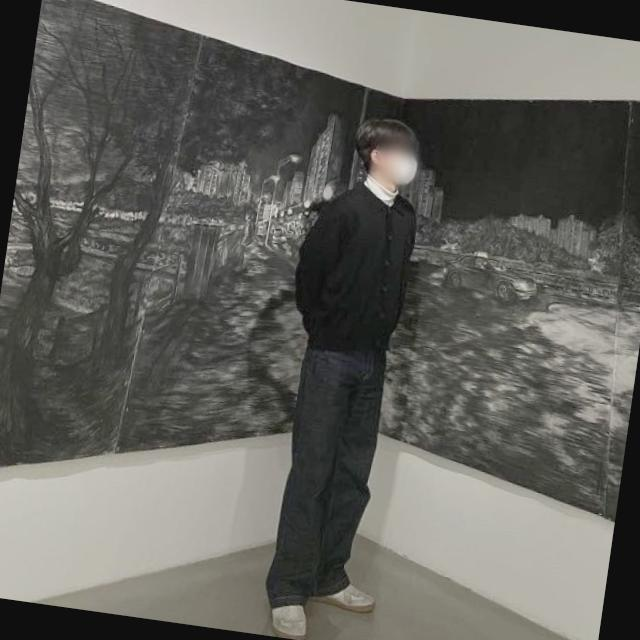cardigan: (289, 173, 425, 360)
denimpants: (264, 327, 394, 615)
